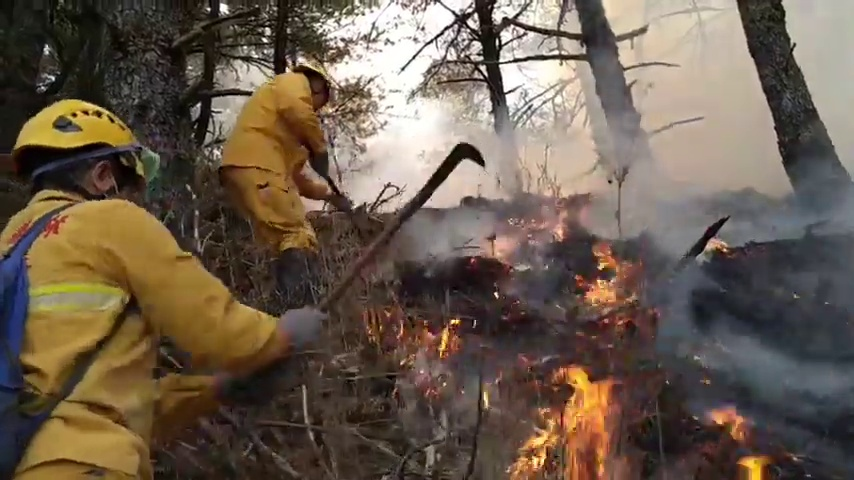fire: (520, 365, 611, 480), (586, 283, 617, 304), (742, 457, 760, 480), (439, 328, 450, 353), (707, 239, 728, 251), (557, 226, 562, 238)
